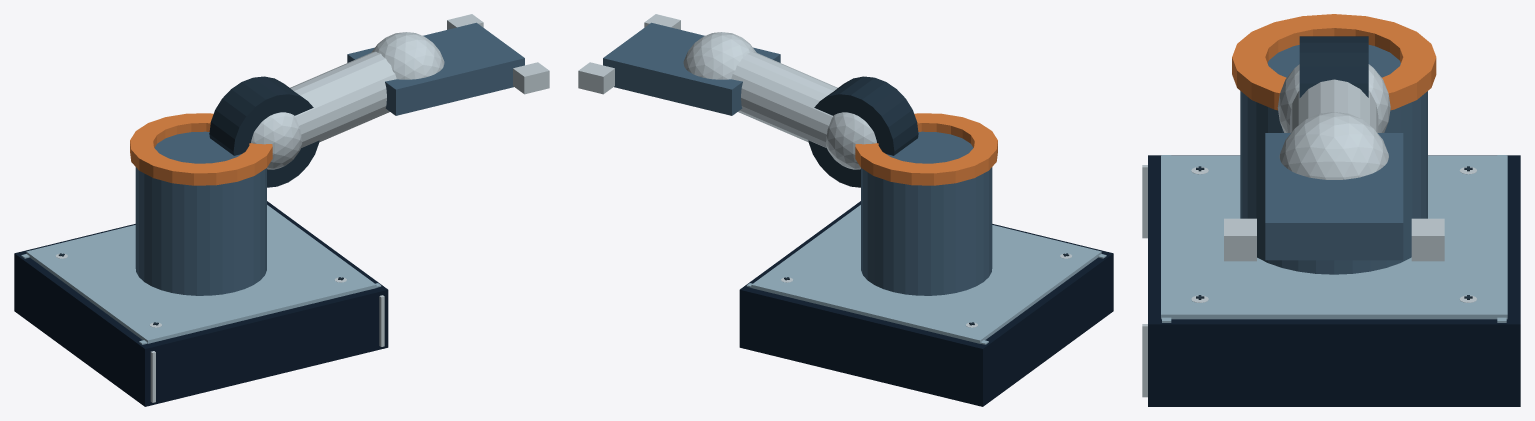
File: 28_L75_AutomatedWaferTransferRobot.fbx
The picture shows the model from 3 angles, left to right: view 1: azimuth 30°, elevation 25°; view 2: azimuth 150°, elevation 25°; view 3: azimuth 270°, elevation 25°; orthographic projection. The views are drawn at different scales.
Parts seen in each view (by area): view 1: AutomatedWaferTransferRobot, AutomatedWaferTransferRobot_Part_0020, AutomatedWaferTransferRobot_Part_0026, AutomatedWaferTransferRobot_Part_0022, AutomatedWaferTransferRobot_Part_0025, AutomatedWaferTransferRobot_Part_0021, AutomatedWaferTransferRobot_Part_0024, AutomatedWaferTransferRobot_Part_0023, AutomatedWaferTransferRobot_Part_0028; view 2: AutomatedWaferTransferRobot, AutomatedWaferTransferRobot_Part_0020, AutomatedWaferTransferRobot_Part_0026, AutomatedWaferTransferRobot_Part_0022, AutomatedWaferTransferRobot_Part_0025, AutomatedWaferTransferRobot_Part_0021, AutomatedWaferTransferRobot_Part_0024, AutomatedWaferTransferRobot_Part_0023, AutomatedWaferTransferRobot_Part_0027; view 3: AutomatedWaferTransferRobot, AutomatedWaferTransferRobot_Part_0026, AutomatedWaferTransferRobot_Part_0020, AutomatedWaferTransferRobot_Part_0021, AutomatedWaferTransferRobot_Part_0024, AutomatedWaferTransferRobot_Part_0025, AutomatedWaferTransferRobot_Part_0022, AutomatedWaferTransferRobot_Part_0023, AutomatedWaferTransferRobot_Part_0027, AutomatedWaferTransferRobot_Part_0028.
Boxes of the visible parts, box(x1,y1,x2,y2) form: AutomatedWaferTransferRobot: box(14, 201, 388, 406); AutomatedWaferTransferRobot_Part_0020: box(135, 131, 266, 295); AutomatedWaferTransferRobot_Part_0026: box(347, 22, 524, 115); AutomatedWaferTransferRobot_Part_0022: box(290, 51, 396, 147); AutomatedWaferTransferRobot_Part_0025: box(209, 76, 319, 187); AutomatedWaferTransferRobot_Part_0021: box(130, 113, 272, 185); AutomatedWaferTransferRobot_Part_0024: box(371, 32, 444, 79); AutomatedWaferTransferRobot_Part_0023: box(251, 112, 301, 169); AutomatedWaferTransferRobot_Part_0028: box(513, 62, 549, 94); AutomatedWaferTransferRobot: box(739, 201, 1113, 406); AutomatedWaferTransferRobot_Part_0020: box(861, 131, 992, 295); AutomatedWaferTransferRobot_Part_0026: box(603, 22, 780, 115); AutomatedWaferTransferRobot_Part_0022: box(731, 51, 837, 147); AutomatedWaferTransferRobot_Part_0025: box(808, 76, 918, 187); AutomatedWaferTransferRobot_Part_0021: box(855, 113, 997, 185); AutomatedWaferTransferRobot_Part_0024: box(683, 32, 756, 79); AutomatedWaferTransferRobot_Part_0023: box(826, 112, 876, 169); AutomatedWaferTransferRobot_Part_0027: box(578, 62, 614, 94); AutomatedWaferTransferRobot: box(1142, 155, 1520, 406); AutomatedWaferTransferRobot_Part_0026: box(1265, 133, 1403, 260); AutomatedWaferTransferRobot_Part_0020: box(1240, 45, 1427, 274); AutomatedWaferTransferRobot_Part_0021: box(1232, 14, 1436, 110); AutomatedWaferTransferRobot_Part_0024: box(1279, 112, 1388, 179); AutomatedWaferTransferRobot_Part_0025: box(1299, 36, 1368, 97); AutomatedWaferTransferRobot_Part_0022: box(1290, 79, 1378, 132); AutomatedWaferTransferRobot_Part_0023: box(1277, 64, 1390, 132); AutomatedWaferTransferRobot_Part_0027: box(1411, 218, 1444, 261); AutomatedWaferTransferRobot_Part_0028: box(1224, 218, 1256, 261).
Bounding box in the file's own units: 257 × 139 × 137.
